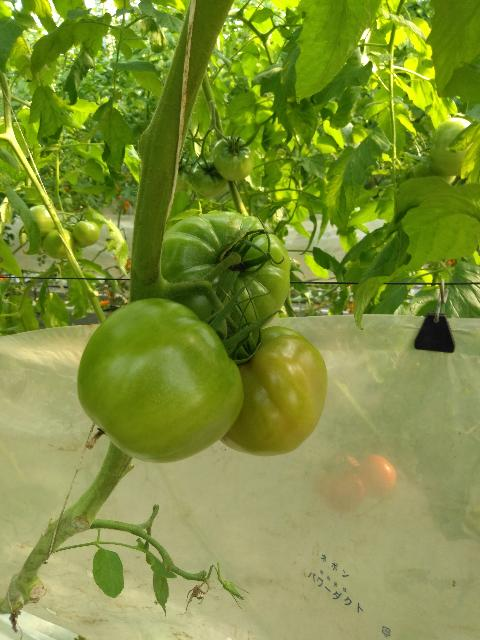b_green: (76, 297, 244, 463), (159, 211, 291, 338), (219, 325, 328, 456), (429, 118, 475, 177), (211, 137, 254, 182), (191, 156, 228, 198), (43, 228, 77, 259), (29, 205, 56, 238), (71, 220, 100, 248)
